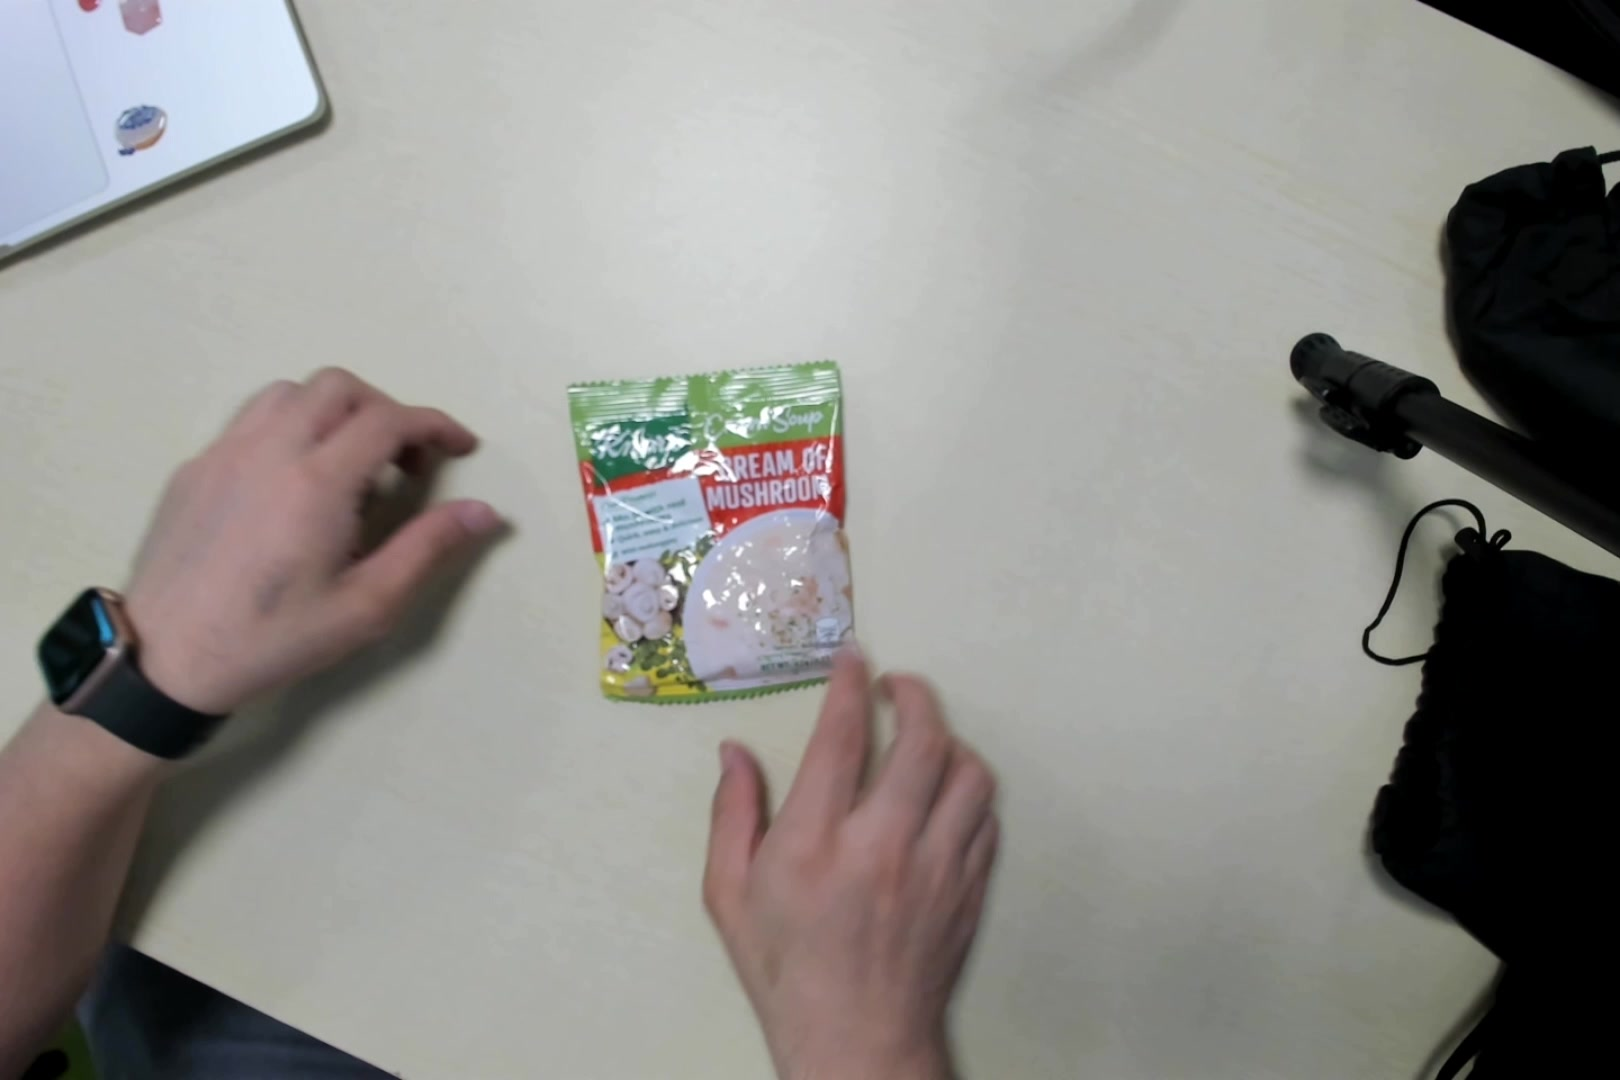OtherBakingNeeds_0-99g_NonHalal_NonHealthy: (568, 363, 859, 706)
